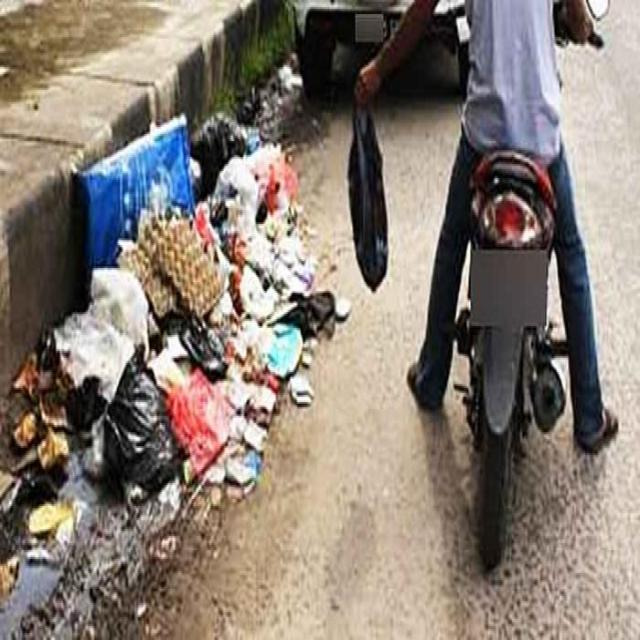sampah-detection: (96, 104, 351, 496), (7, 309, 138, 561), (342, 79, 394, 305)
